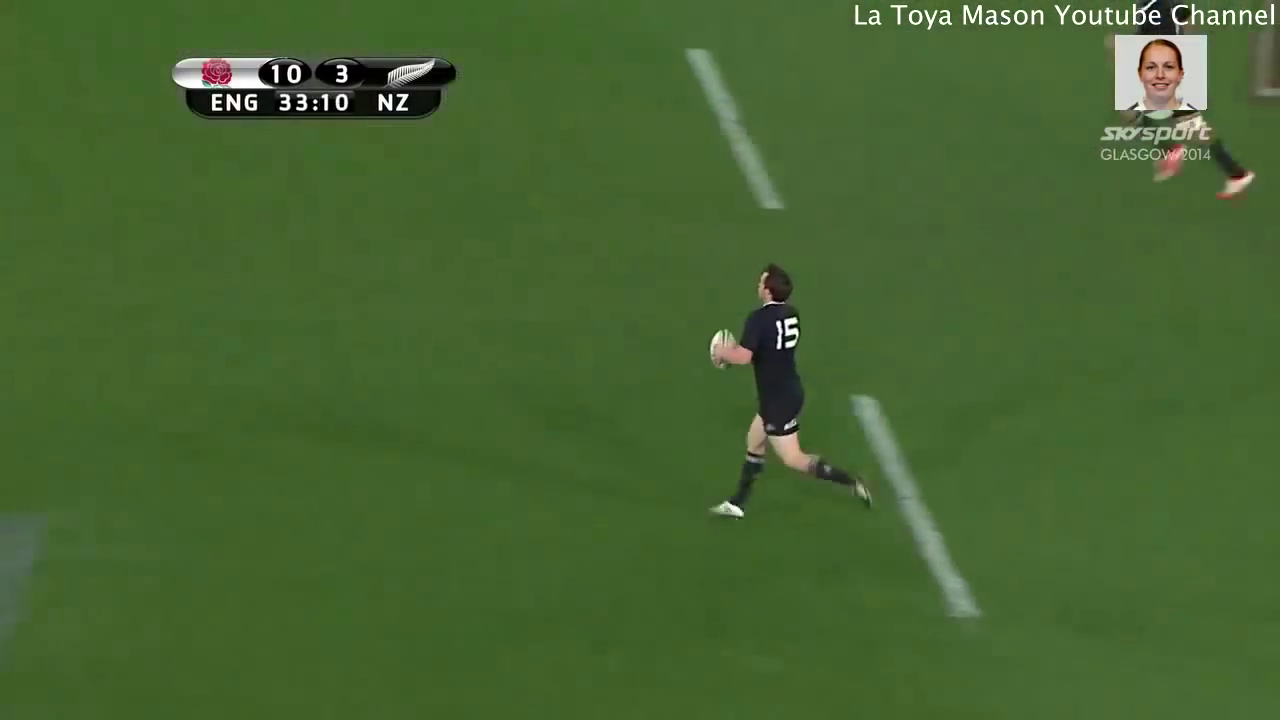ball: (701, 319, 740, 377)
player: (695, 261, 879, 545)
